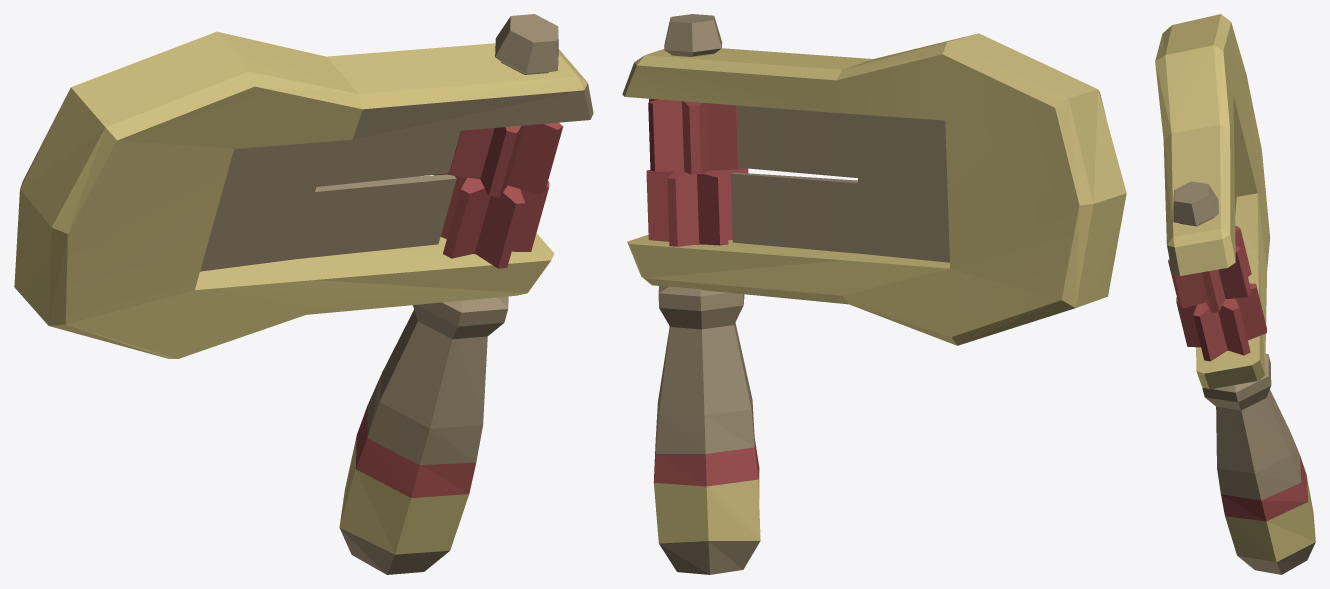
Rendered from trinketHorn2.fbx.
The picture shows the model from 3 angles, left to right: view 1: azimuth 30°, elevation 25°; view 2: azimuth 150°, elevation 25°; view 3: azimuth 270°, elevation 25°; orthographic projection. The views are drawn at different scales.
Visible parts, largest first — view 1: trinketHorn2; view 2: trinketHorn2; view 3: trinketHorn2.
Boxes of the visible parts, bbox=[...] form: trinketHorn2: bbox=[14, 14, 593, 574]; trinketHorn2: bbox=[622, 14, 1126, 574]; trinketHorn2: bbox=[1155, 14, 1315, 574].
Size of the model in its own units: 1.25 by 1.37 by 0.4513.
1 material, 1 textured.
